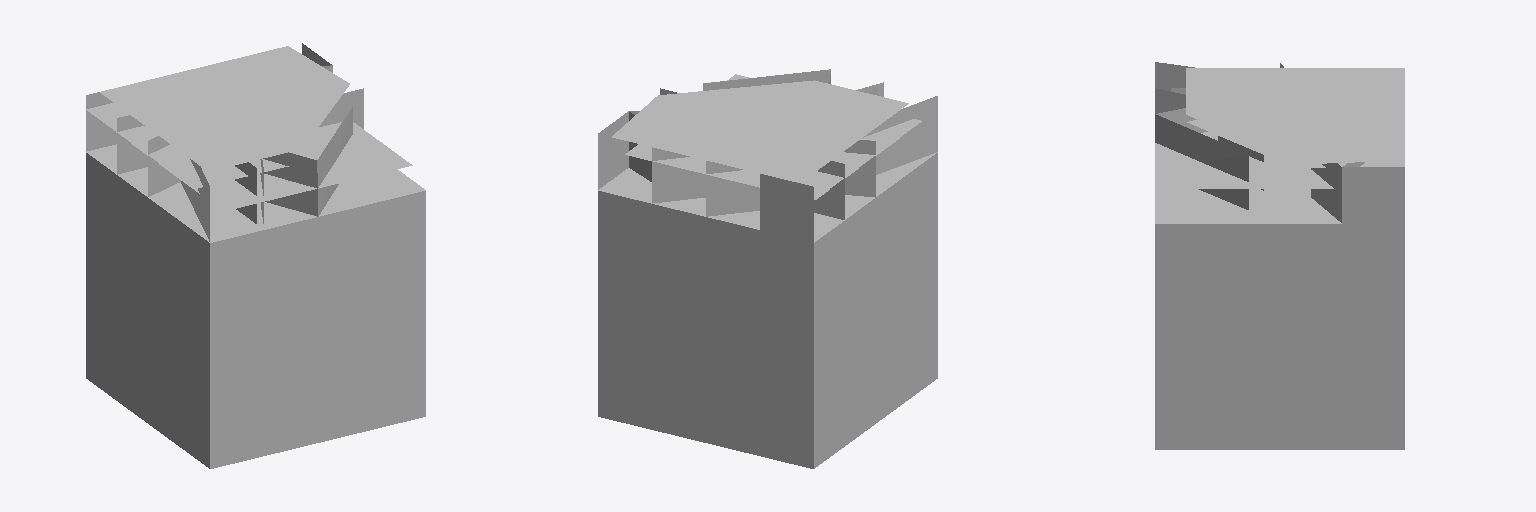
The model's file is blushrock_8.obj.
3 views of the same model, side by side, from view 1: azimuth 30°, elevation 25°; view 2: azimuth 150°, elevation 25°; view 3: azimuth 270°, elevation 25° (orthographic).
Size of the model in its own units: 1 by 1.25 by 1.